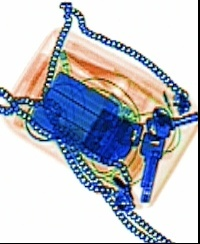powerbank: (24, 69, 142, 164)
